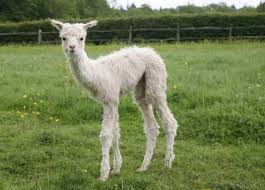alpaca: (47, 16, 179, 181)
